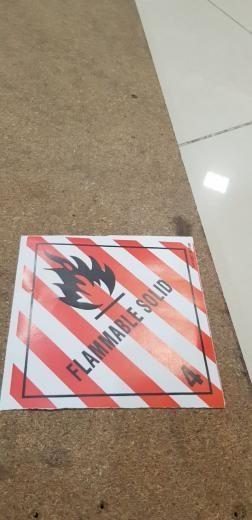flammable-solid: (1, 234, 226, 412)
